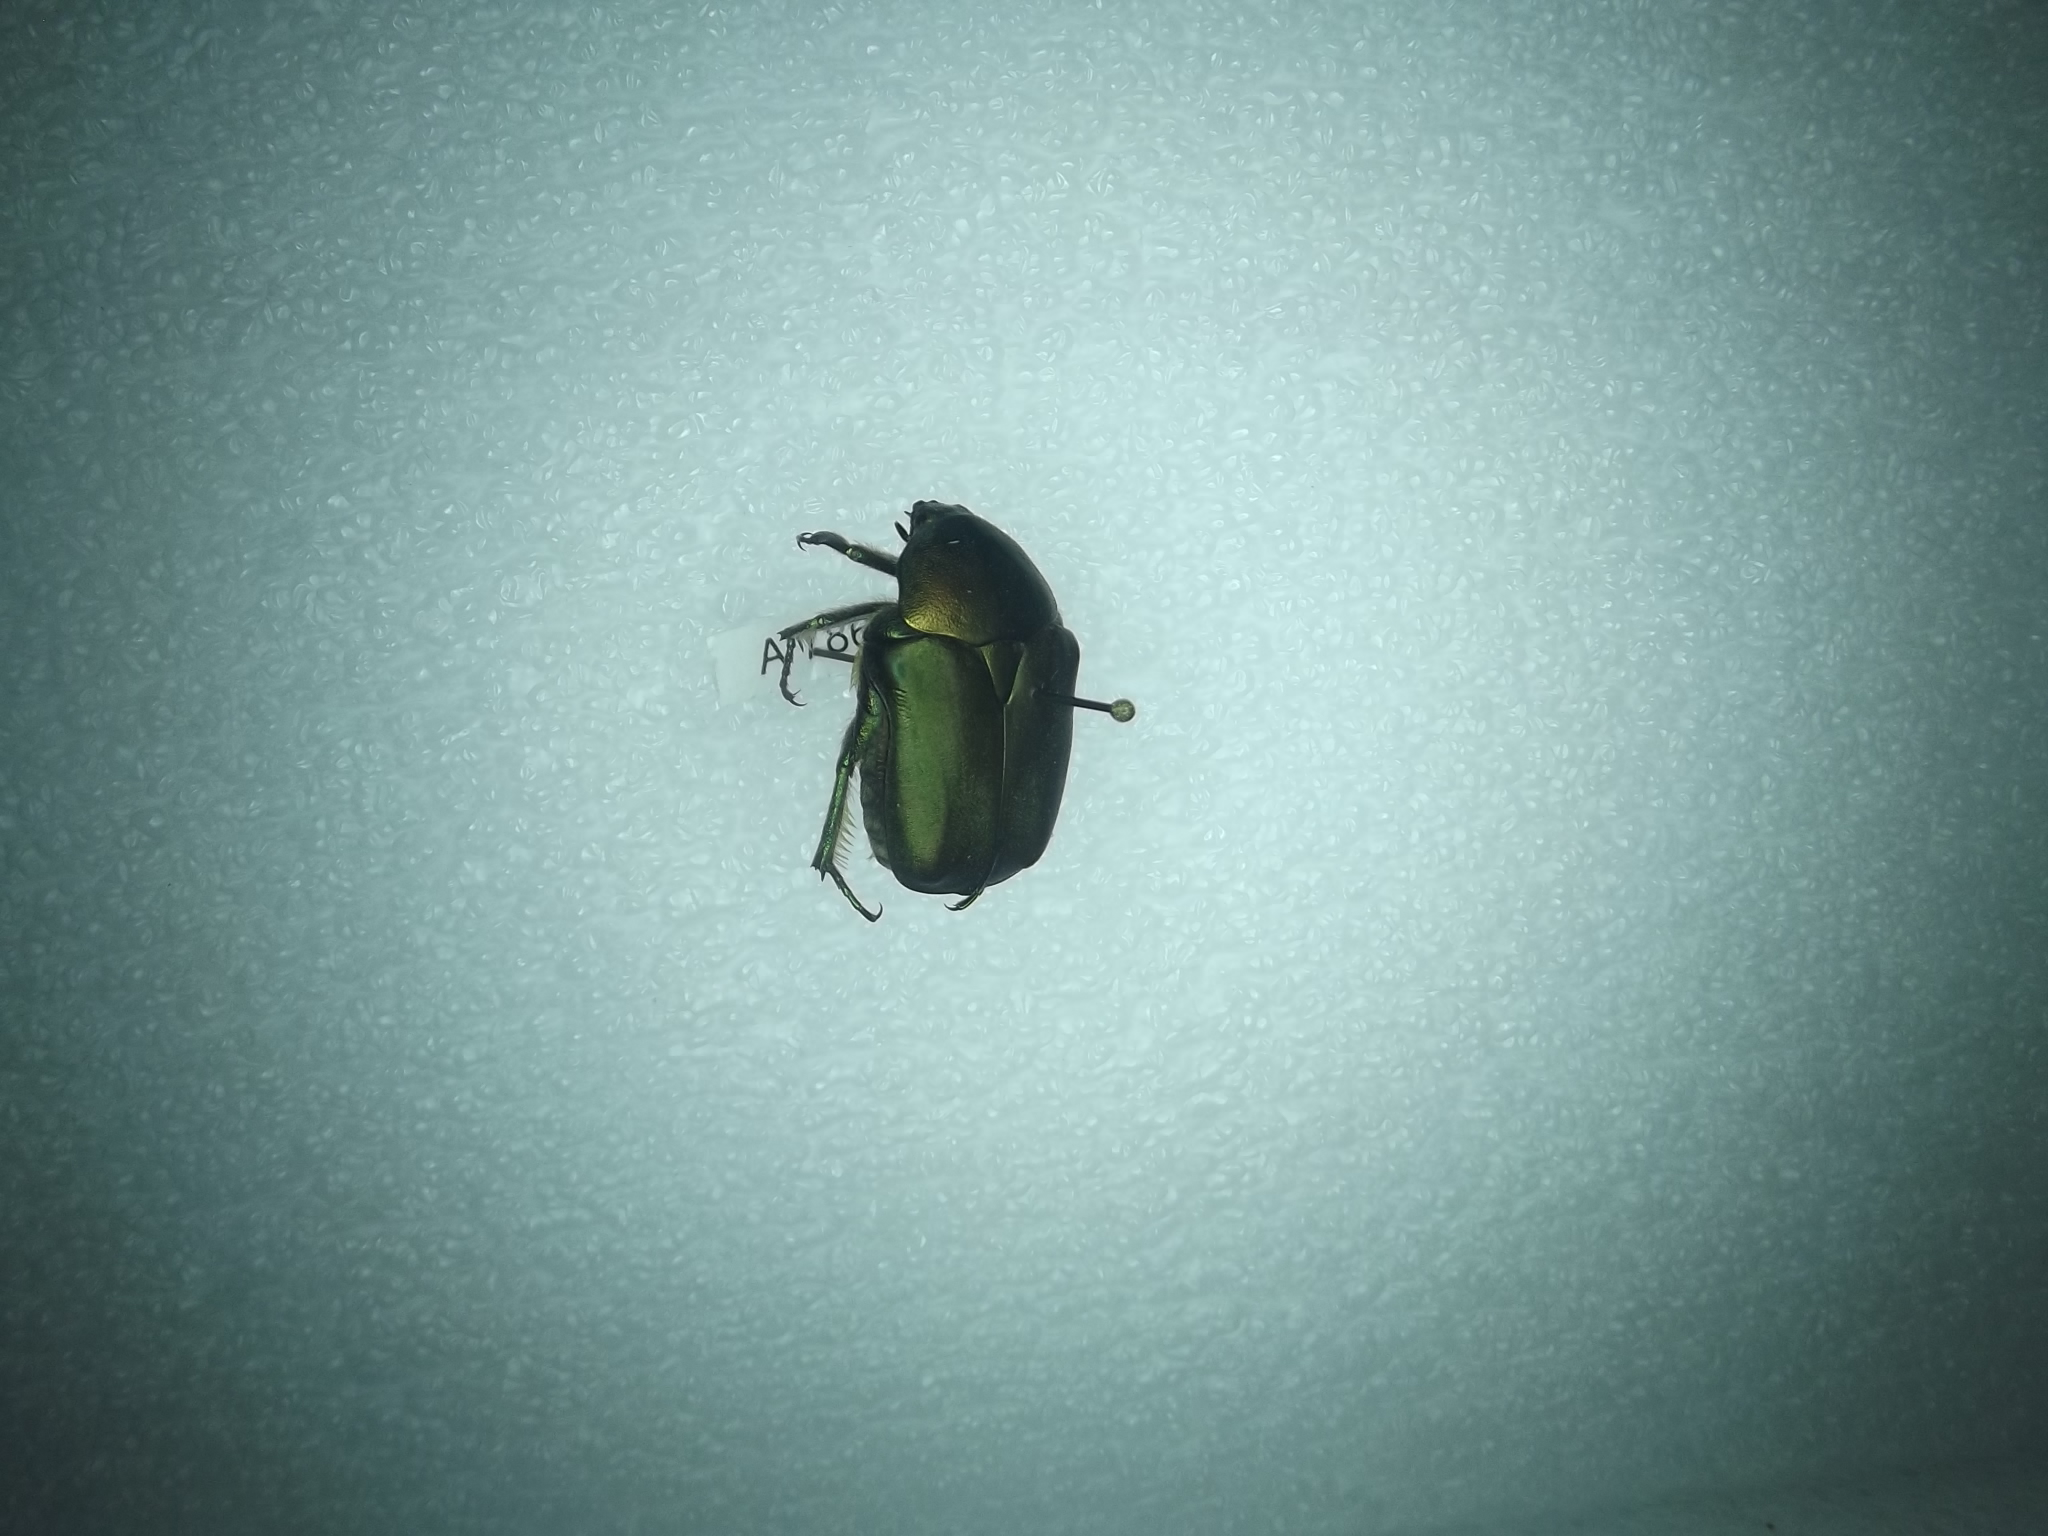Protaetia_ungarica_americana: (768, 479, 1084, 945)
